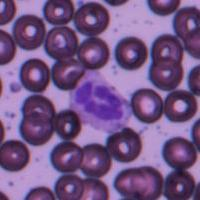N: (69, 70, 131, 132)
